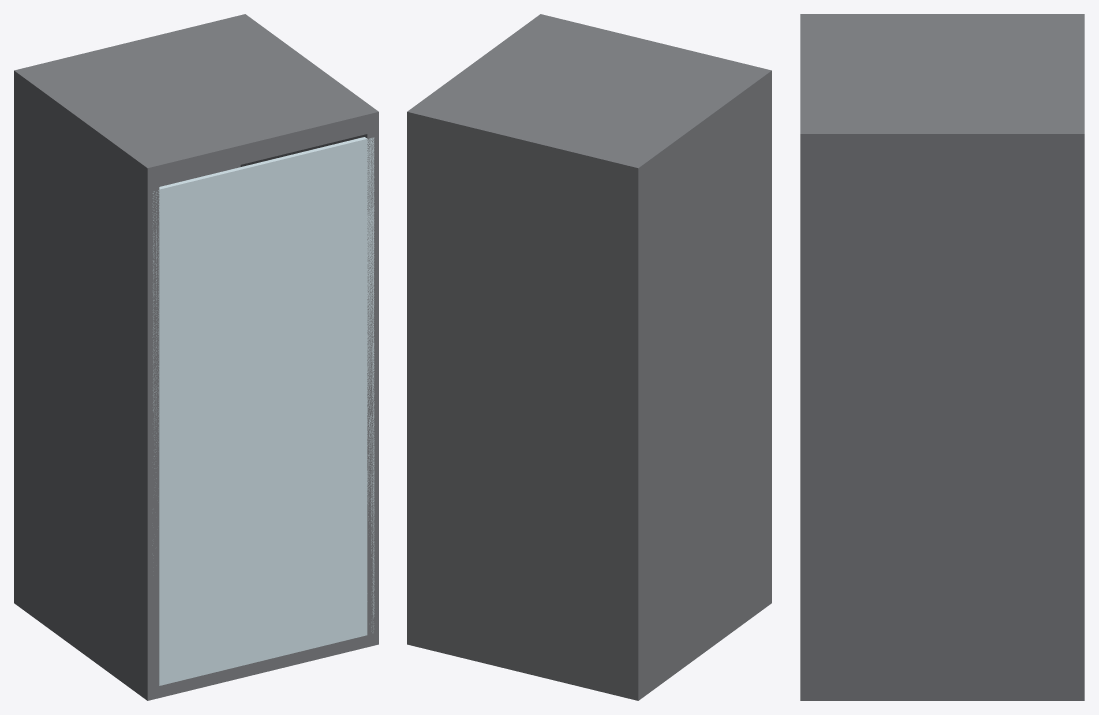
Rendered from phone_booth.glb.
3 views of the same model, side by side, from view 1: azimuth 30°, elevation 25°; view 2: azimuth 150°, elevation 25°; view 3: azimuth 270°, elevation 25° (orthographic). The views are drawn at different scales.
Parts seen in each view (by area): view 1: geometry_0_c1, geometry_0_c3; view 2: geometry_0_c1; view 3: geometry_0_c1.
Boxes of the visible parts, bbox=[...] form: geometry_0_c1: bbox=[14, 14, 378, 700]; geometry_0_c3: bbox=[152, 137, 374, 685]; geometry_0_c1: bbox=[407, 14, 771, 700]; geometry_0_c1: bbox=[800, 14, 1084, 700].
Bounding box in the file's own units: 1 × 2.2 × 1.
